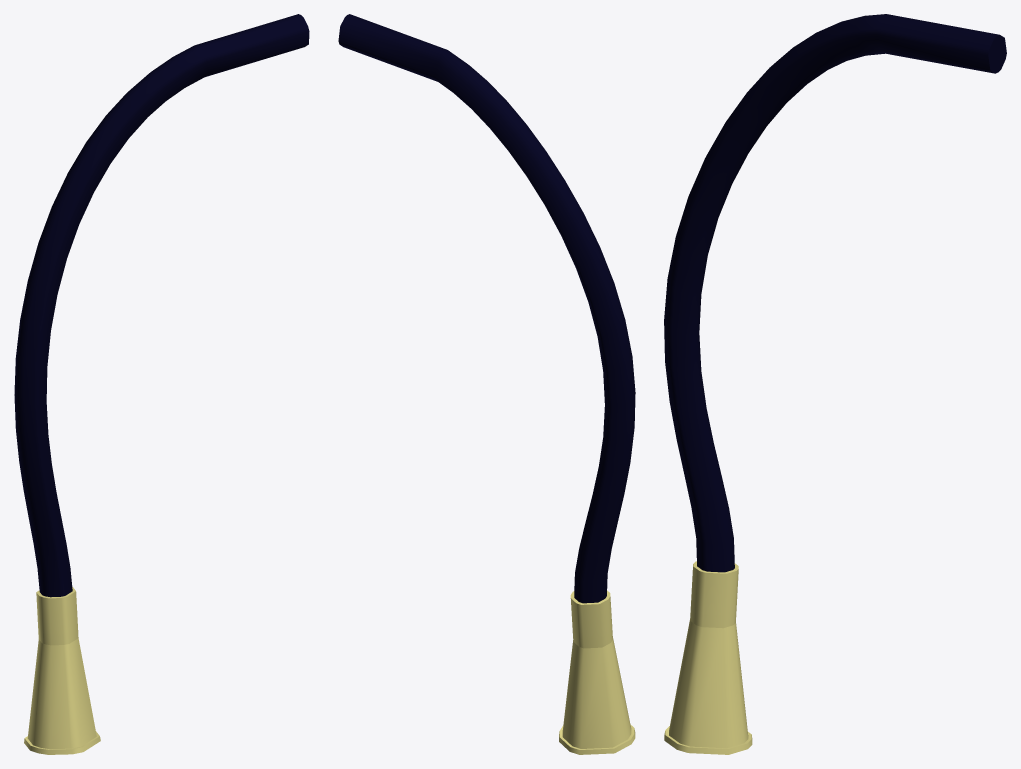
3 renders of one model, left to right at view 1: azimuth 30°, elevation 25°; view 2: azimuth 150°, elevation 25°; view 3: azimuth 330°, elevation 25°, orthographic. The views are drawn at different scales.
Visible parts, largest first — view 1: pCylinder24; view 2: pCylinder24; view 3: pCylinder24.
Part boxes in pixels (<box>): pCylinder24: <box>14,14,309,754</box>; pCylinder24: <box>338,14,635,754</box>; pCylinder24: <box>664,14,1006,754</box>.
Bounding box in the file's own units: 13.16 × 29.31 × 3.12.
